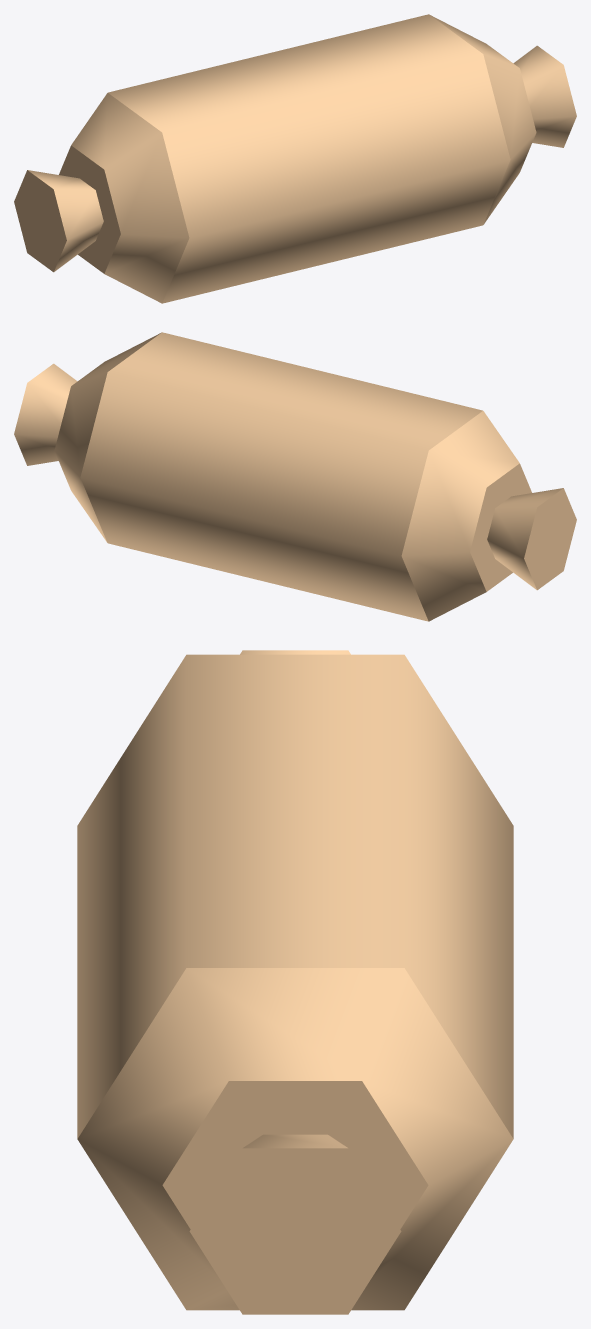
Rendered from Sausage.glb.
The picture shows the model from 3 angles, top to bottom: view 1: azimuth 30°, elevation 25°; view 2: azimuth 150°, elevation 25°; view 3: azimuth 270°, elevation 25°; orthographic projection. The views are drawn at different scales.
Parts seen in each view (by area): view 1: Sausage; view 2: Sausage; view 3: Sausage.
Boxes of the visible parts, x1=… form: Sausage: x1=14, y1=14, x2=576, y2=303; Sausage: x1=14, y1=332, x2=576, y2=621; Sausage: x1=77, y1=650, x2=513, y2=1314.
Bounding box in the file's own units: 0.3707 × 0.1189 × 0.1373.
